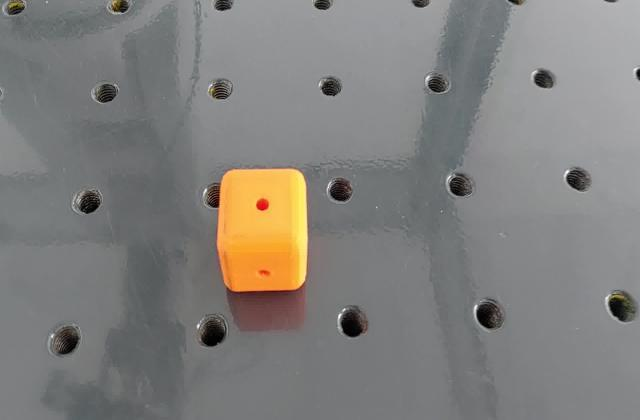cube: (215, 164, 311, 295)
